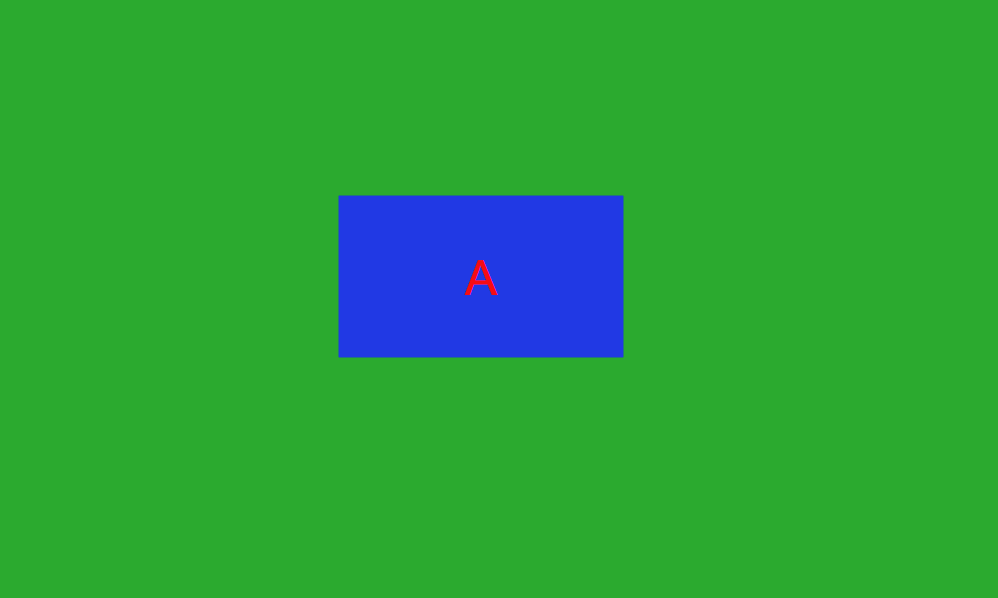A: (458, 252, 503, 301)
rectangle: (334, 190, 629, 361)
